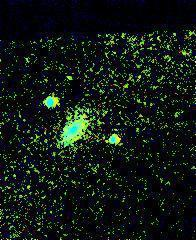star: (52, 64, 82, 94)
